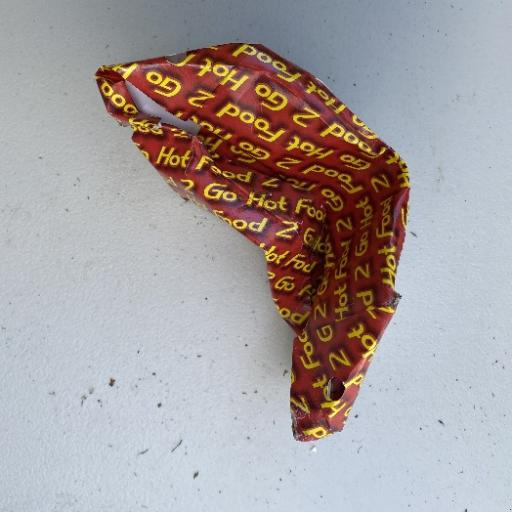Cardboard: (93, 41, 411, 443)
